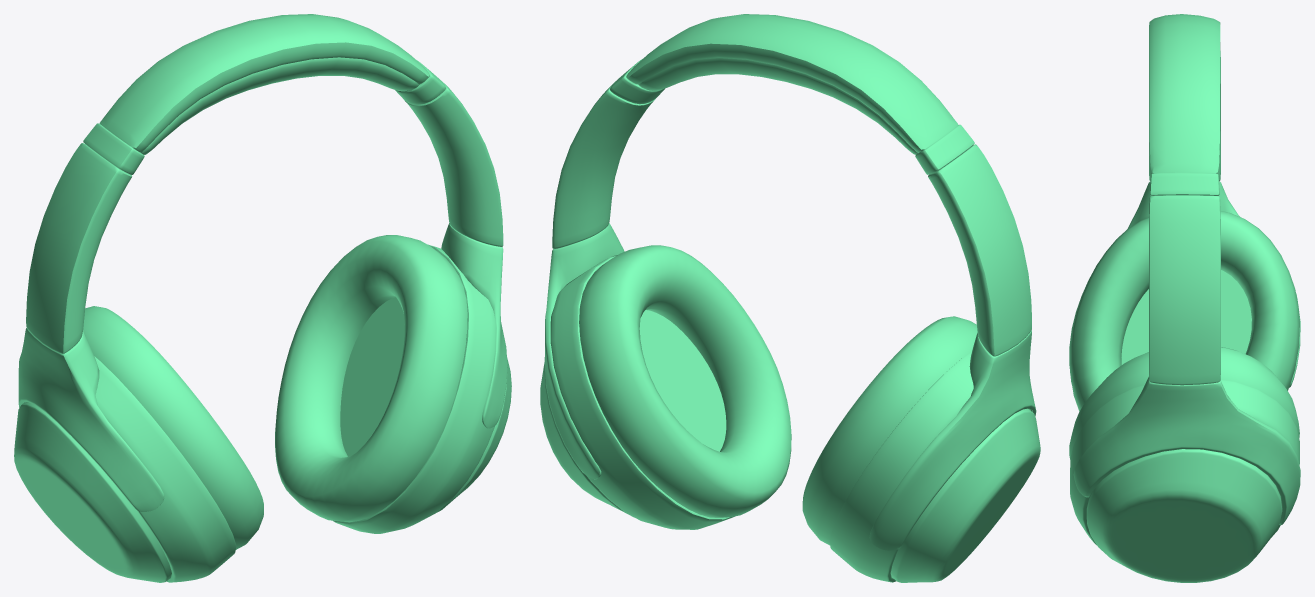
The model's file is ThreejsScene (2).glb.
3 views of the same model, side by side, from view 1: azimuth 30°, elevation 25°; view 2: azimuth 150°, elevation 25°; view 3: azimuth 270°, elevation 25° (orthographic). The views are drawn at different scales.
Visible parts, largest first — view 1: уховнешнее001; view 2: уховнешнее001; view 3: уховнешнее001.
Part boxes in pixels (x1,y1,x2,y2): уховнешнее001: (14,14,511,582); уховнешнее001: (540,14,1040,582); уховнешнее001: (1069,14,1300,582).
Size of the model in its own units: 4.3 by 4.62 by 1.99.
